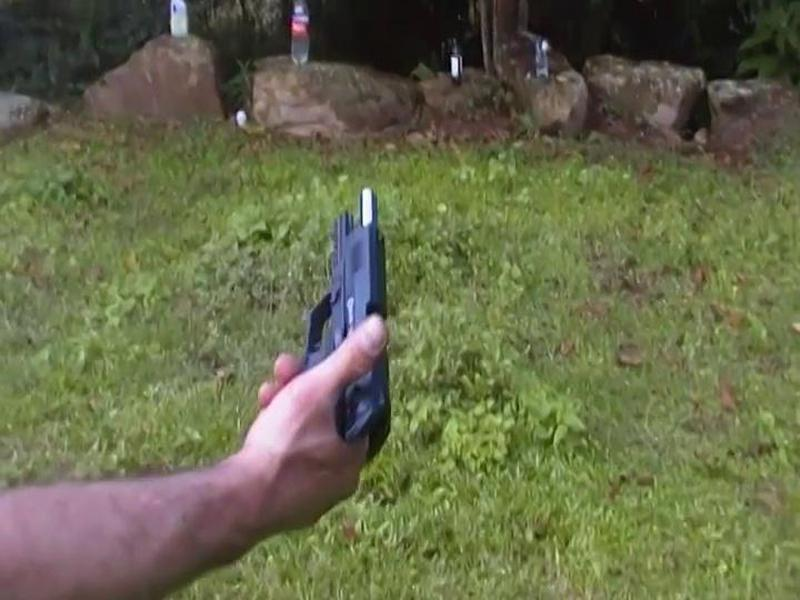Pistola: (280, 195, 410, 461)
